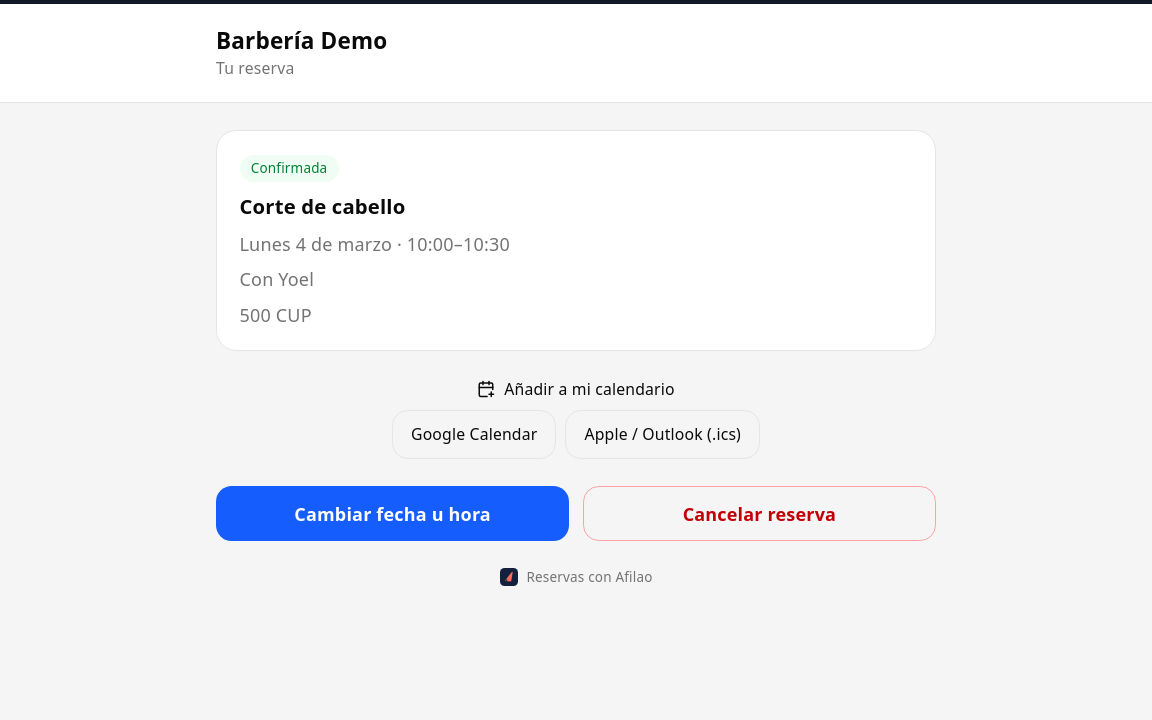
Test: Gestionar mi reserva (enlace secreto) › si el servidor rechaza la cancelación, muestra el motivo y no cambia el estado
What coordinates should you click on to do the following:
click the button "Cancelar reserva"
I would click on:
 (759, 514)
Its box is [583,486,936,541].
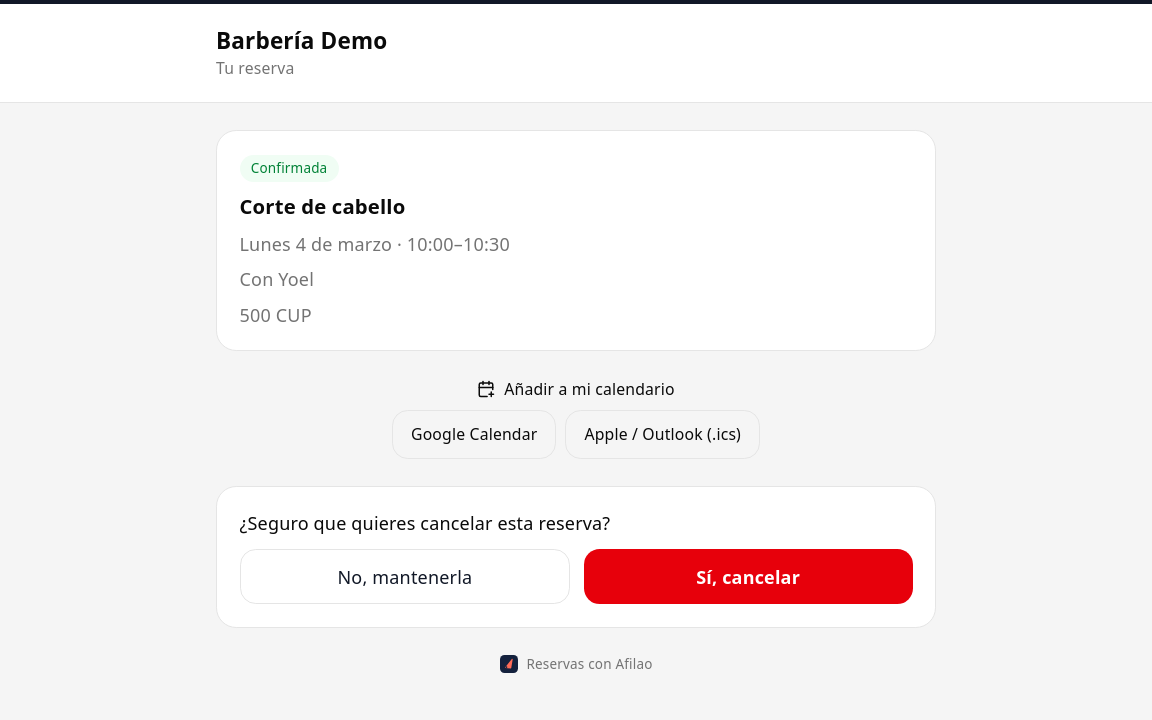
What coordinates should you click on to do the following:
click the button "Sí, cancelar"
I would click on:
 (748, 577)
Its box is [584,549,913,604].
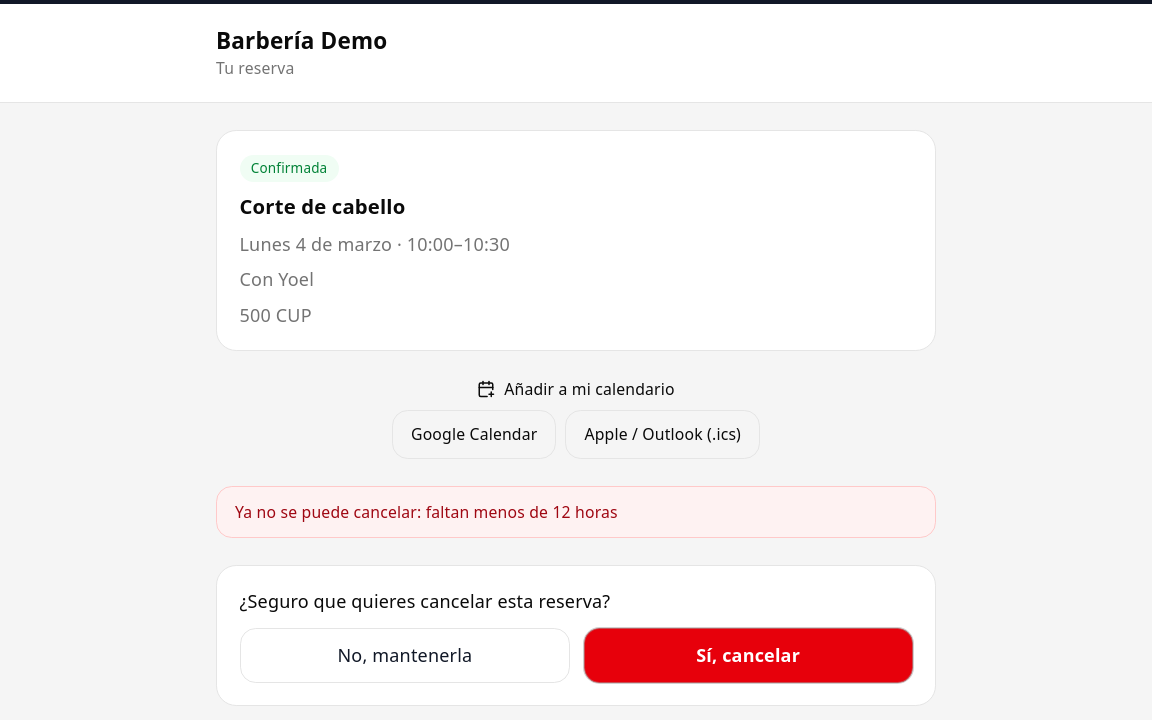
Check: the text "Confirmada" is shown, box [240,155,339,182]
Check: the message shows "faltan menos de 12 horas", box [235,501,618,523]
